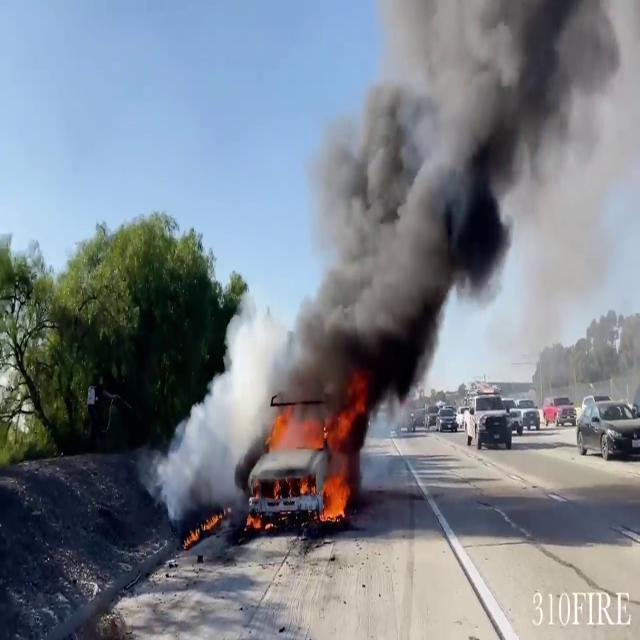Fire: (248, 398, 347, 530)
Smoke: (287, 0, 617, 408), (162, 278, 300, 538)
